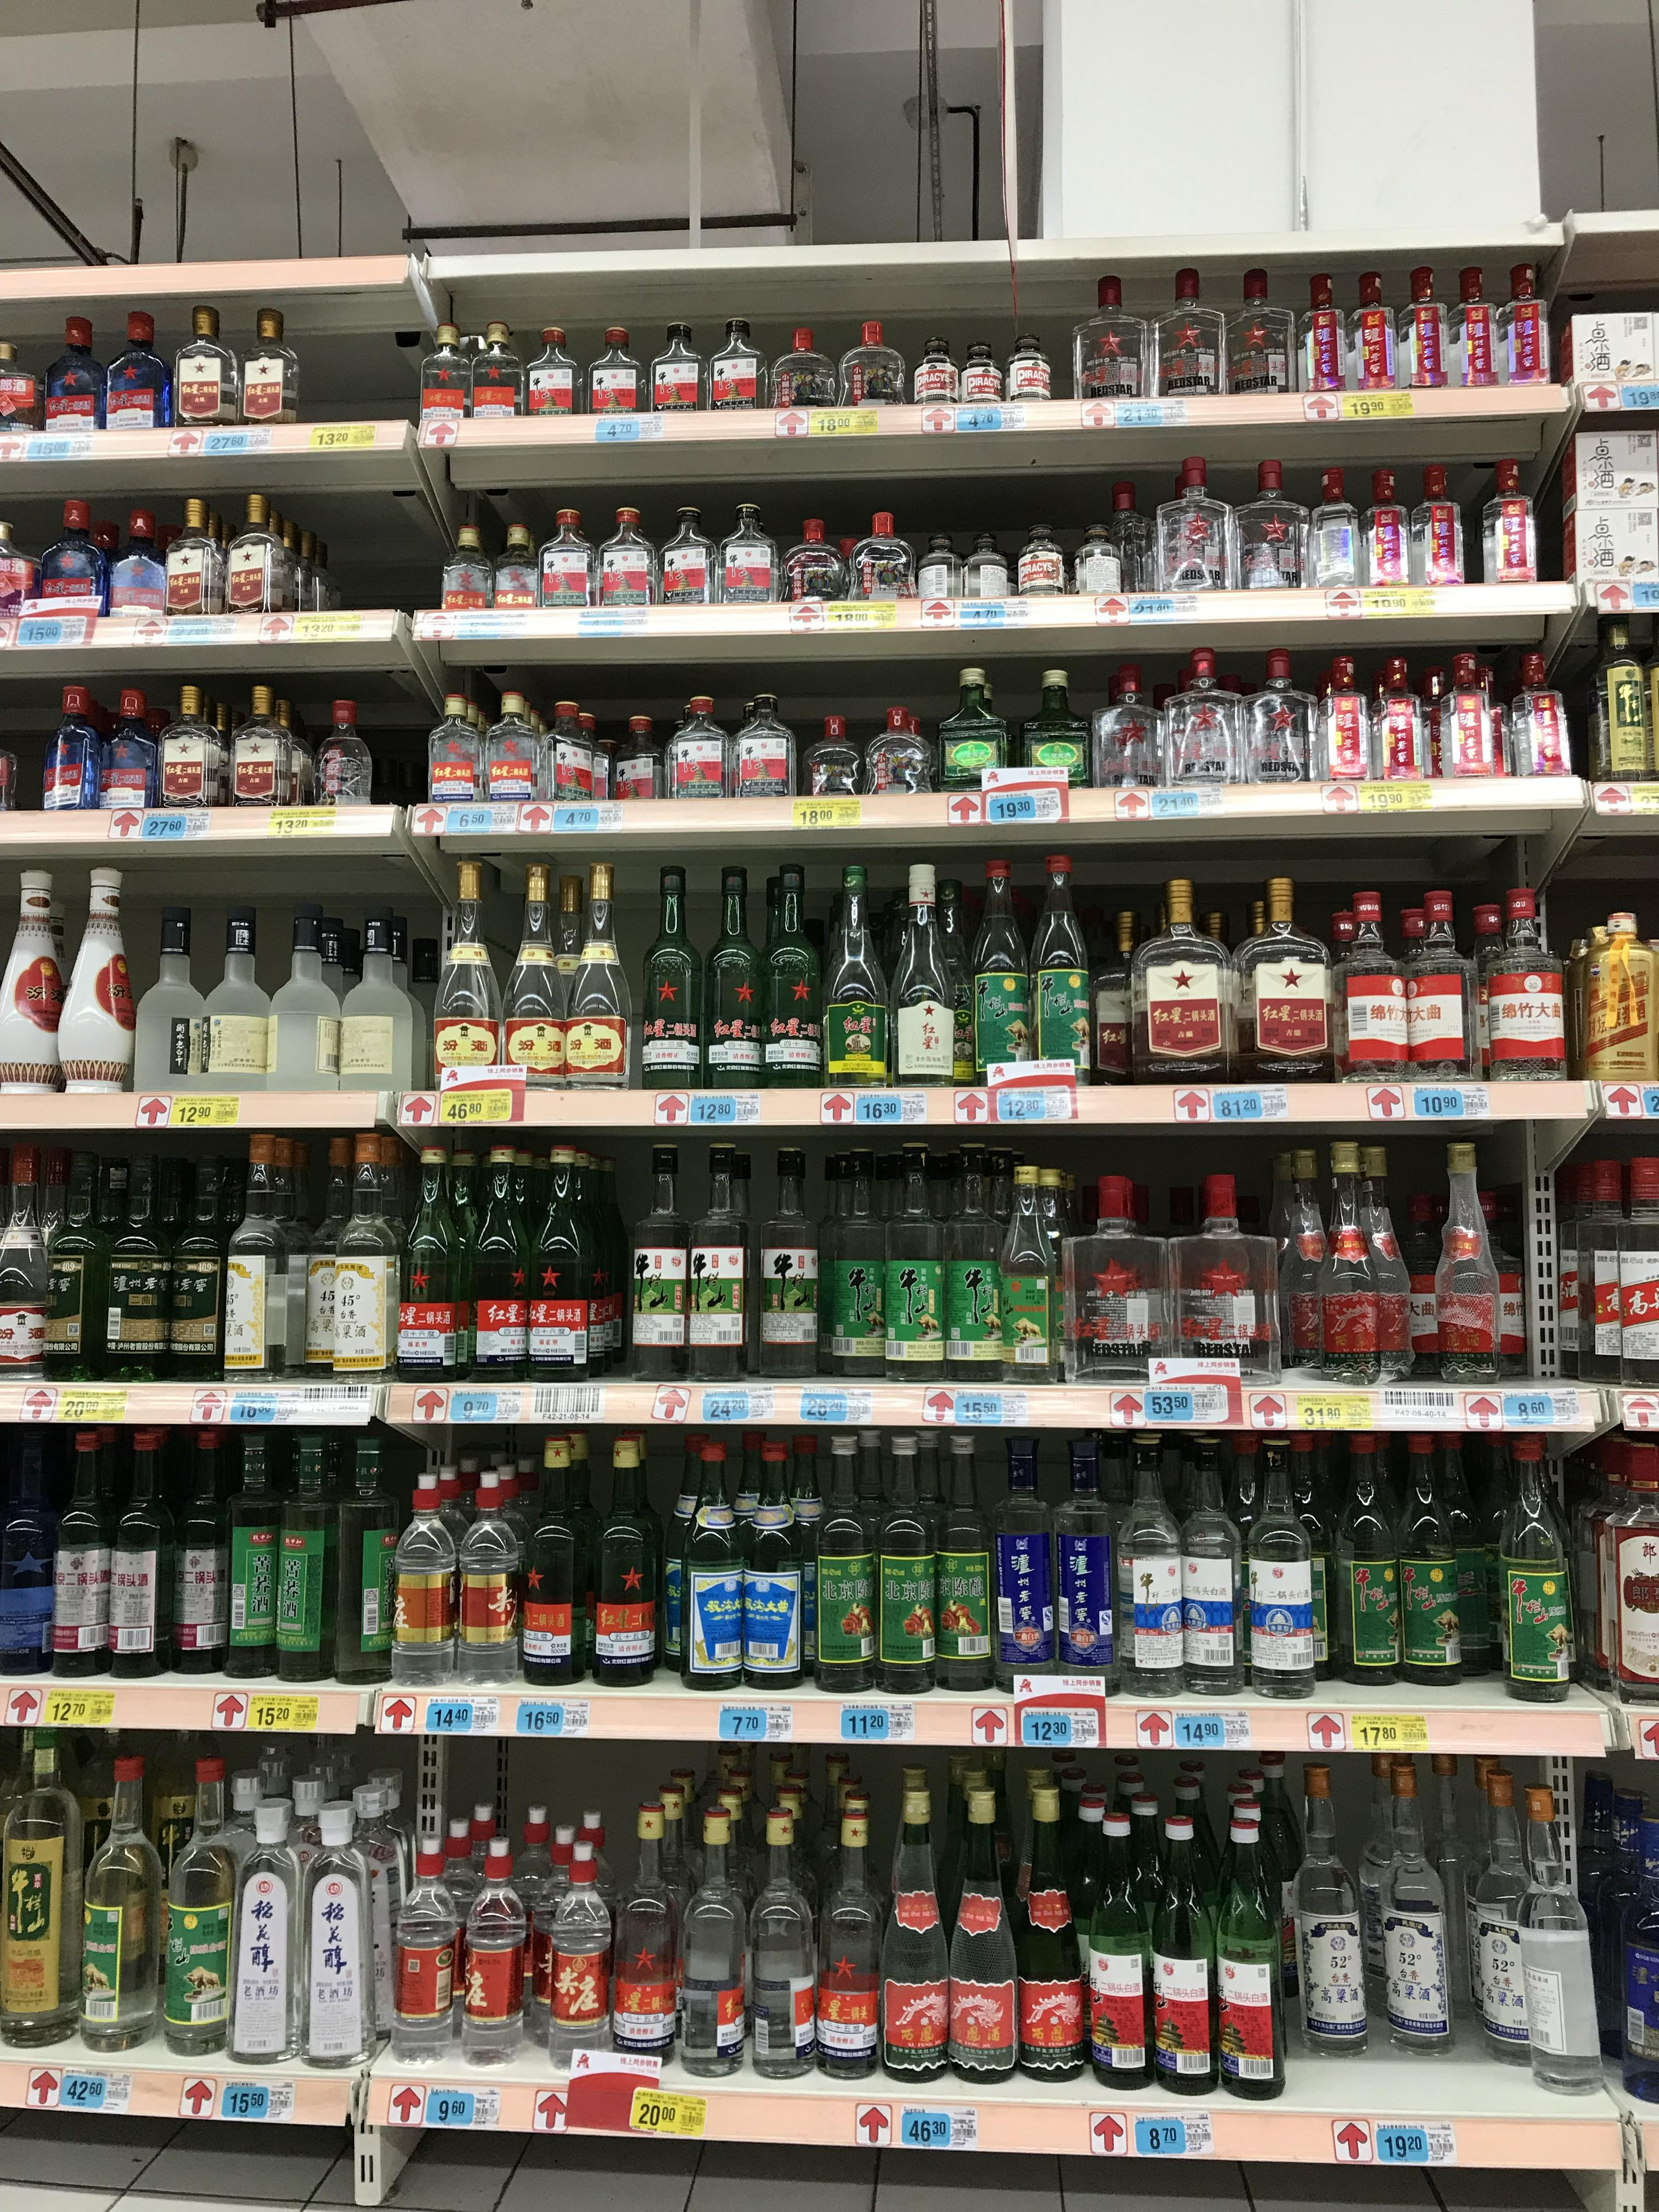bag: (1480, 465, 1535, 585)
bottle: (0, 1735, 87, 2050), (155, 1763, 244, 2057), (71, 1754, 157, 2052), (1209, 1770, 1286, 2095), (1371, 1763, 1455, 2052), (1523, 1797, 1607, 2083), (1459, 1770, 1544, 2043), (1079, 1789, 1155, 2090), (1490, 1430, 1575, 1698), (312, 1129, 401, 1381), (1291, 1770, 1370, 2054), (812, 1806, 892, 2081), (1319, 1432, 1405, 1689), (735, 1808, 816, 2081), (1237, 1432, 1319, 1698), (1147, 1808, 1222, 2095), (331, 1420, 411, 1688), (291, 1796, 369, 2069), (1392, 1432, 1476, 1688), (673, 1811, 753, 2078), (1107, 1426, 1185, 1698), (392, 1134, 476, 1383), (530, 1143, 617, 1381), (809, 1426, 885, 1696), (227, 1794, 301, 2066), (671, 1435, 749, 1693), (512, 1437, 591, 1693), (1168, 1426, 1241, 1698), (460, 1139, 542, 1381), (878, 1813, 951, 2083), (927, 1425, 1000, 1693), (1424, 1430, 1502, 1676), (870, 1428, 941, 1696), (587, 1439, 662, 1689), (1169, 1174, 1263, 1372), (103, 1420, 174, 1681), (943, 1838, 1018, 2087), (610, 1815, 683, 2066), (1136, 878, 1223, 1087), (213, 1132, 286, 1379), (735, 1442, 807, 1695), (164, 1153, 242, 1383), (169, 1421, 239, 1677), (94, 1153, 171, 1385), (1061, 1435, 1129, 1696), (1012, 1844, 1086, 2087), (1068, 1177, 1157, 1376), (1239, 881, 1326, 1083), (812, 867, 892, 1087), (1554, 1158, 1629, 1392), (819, 1144, 892, 1381), (1432, 1141, 1504, 1383), (274, 1428, 342, 1683), (1316, 1141, 1387, 1381), (751, 1141, 823, 1381), (1025, 848, 1096, 1089), (2, 1430, 70, 1679), (45, 1426, 112, 1679), (936, 1153, 1009, 1381), (889, 867, 965, 1085), (221, 1428, 288, 1677), (382, 1829, 455, 2054), (561, 866, 634, 1089), (877, 1148, 946, 1381), (1000, 1435, 1061, 1702), (626, 1148, 695, 1379), (758, 867, 830, 1089), (636, 869, 708, 1090), (685, 1143, 751, 1381), (457, 1846, 532, 2057), (965, 857, 1033, 1085), (993, 1167, 1065, 1381), (1270, 1150, 1337, 1378), (1485, 892, 1565, 1078), (64, 874, 132, 1094), (436, 871, 504, 1089), (448, 1477, 519, 1683), (704, 867, 770, 1089), (59, 1153, 124, 1379), (545, 1844, 613, 2057), (507, 867, 572, 1089), (389, 1479, 455, 1686), (2, 1153, 63, 1376), (1377, 1155, 1436, 1378), (0, 876, 61, 1090), (1581, 611, 1656, 786), (200, 906, 272, 1087), (342, 916, 415, 1087), (1337, 899, 1405, 1082), (1401, 899, 1467, 1082), (268, 909, 335, 1087), (1584, 918, 1654, 1085), (141, 902, 200, 1090), (1080, 890, 1136, 1085), (1168, 653, 1241, 787), (1511, 643, 1575, 782), (1161, 270, 1227, 404), (1162, 455, 1227, 592), (37, 500, 110, 620), (1230, 469, 1302, 590), (1371, 653, 1432, 786), (45, 685, 105, 815), (1248, 653, 1307, 784), (220, 495, 281, 618), (1232, 268, 1290, 399), (1304, 474, 1366, 592), (173, 310, 235, 428), (1441, 651, 1499, 780), (113, 317, 171, 442), (1021, 681, 1086, 792), (1316, 653, 1370, 786), (113, 505, 171, 624), (44, 327, 101, 444), (240, 312, 300, 425), (1100, 678, 1159, 791), (1495, 261, 1542, 394), (1342, 266, 1387, 394), (1450, 266, 1495, 390), (1398, 266, 1441, 394), (845, 523, 906, 611), (457, 327, 509, 430), (521, 326, 575, 425), (587, 329, 638, 427), (843, 324, 899, 408), (765, 340, 828, 411), (420, 324, 460, 434), (2, 374, 38, 448)
box: (1572, 1428, 1659, 1709), (1366, 463, 1469, 592), (1410, 463, 1471, 592), (1554, 314, 1659, 388), (1291, 270, 1347, 394), (702, 312, 763, 416), (650, 324, 704, 420)
jar: (660, 700, 734, 801), (110, 695, 171, 812), (727, 702, 798, 801), (157, 695, 216, 810), (932, 704, 1009, 791), (1082, 298, 1141, 409), (159, 509, 220, 617), (596, 512, 664, 608), (310, 704, 369, 813), (864, 709, 934, 801), (798, 712, 864, 806), (227, 691, 279, 810), (484, 702, 545, 799), (246, 693, 295, 808), (547, 711, 606, 805), (781, 526, 849, 606), (538, 516, 596, 610), (660, 516, 721, 603), (432, 704, 488, 798), (606, 718, 662, 803), (443, 533, 495, 620), (1012, 533, 1070, 604), (1068, 528, 1122, 603), (1000, 345, 1061, 411), (955, 545, 1009, 613), (493, 535, 538, 613), (922, 543, 972, 613), (913, 345, 964, 406), (953, 348, 1004, 408)
others: (1570, 421, 1654, 577)
